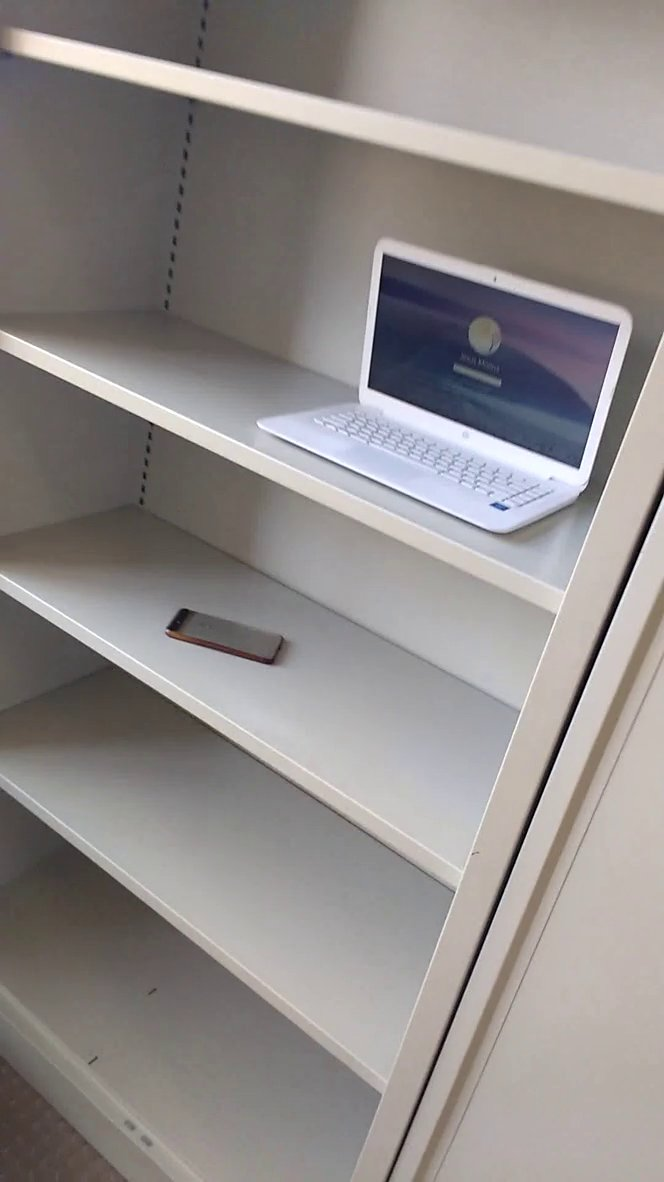laptop: (249, 225, 643, 552)
phone: (163, 602, 290, 674)
